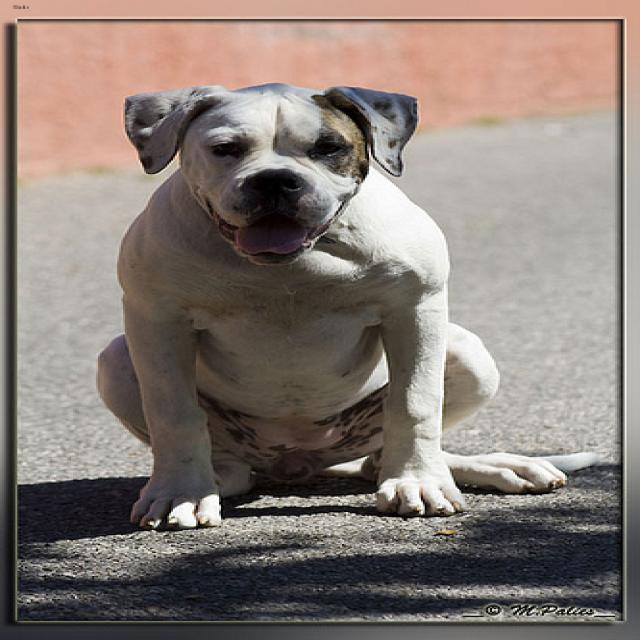dog-american_bulldog: (69, 74, 613, 535)
